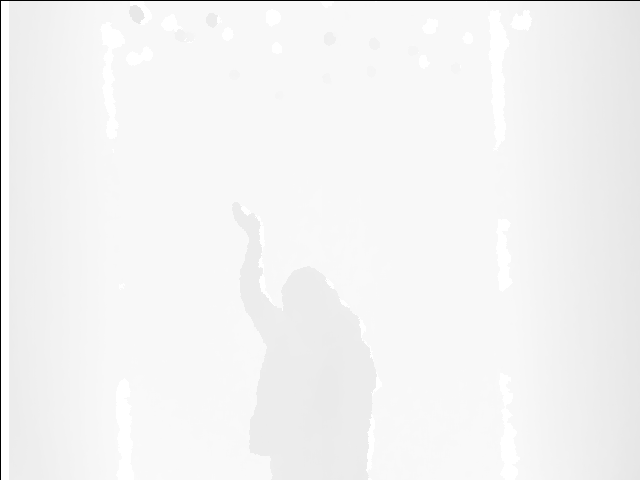hand: (234, 201, 264, 241)
